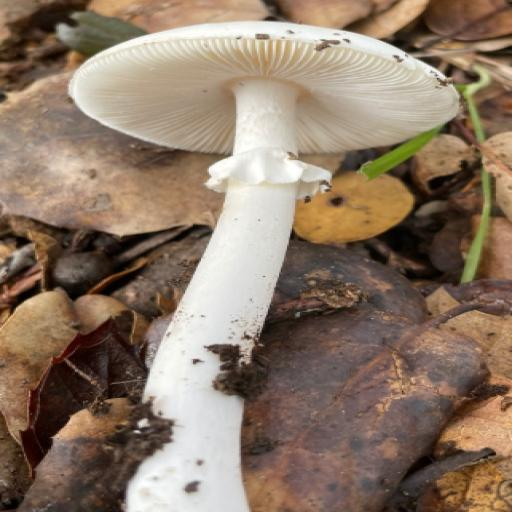mushroom: (80, 6, 483, 512)
